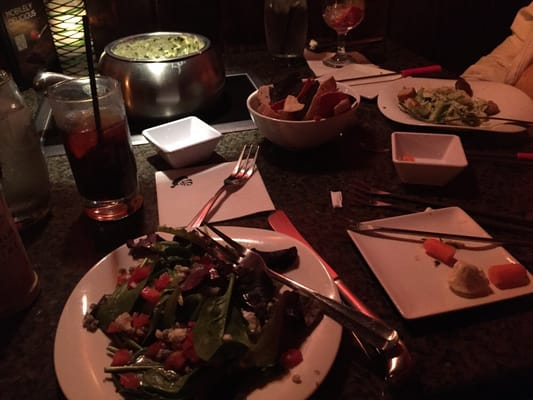burger: (197, 223, 415, 378), (183, 142, 261, 232)
pizza: (47, 74, 144, 223), (0, 69, 53, 233), (0, 161, 41, 323), (263, 0, 310, 64)
sushi: (246, 74, 361, 150), (391, 131, 469, 186)
